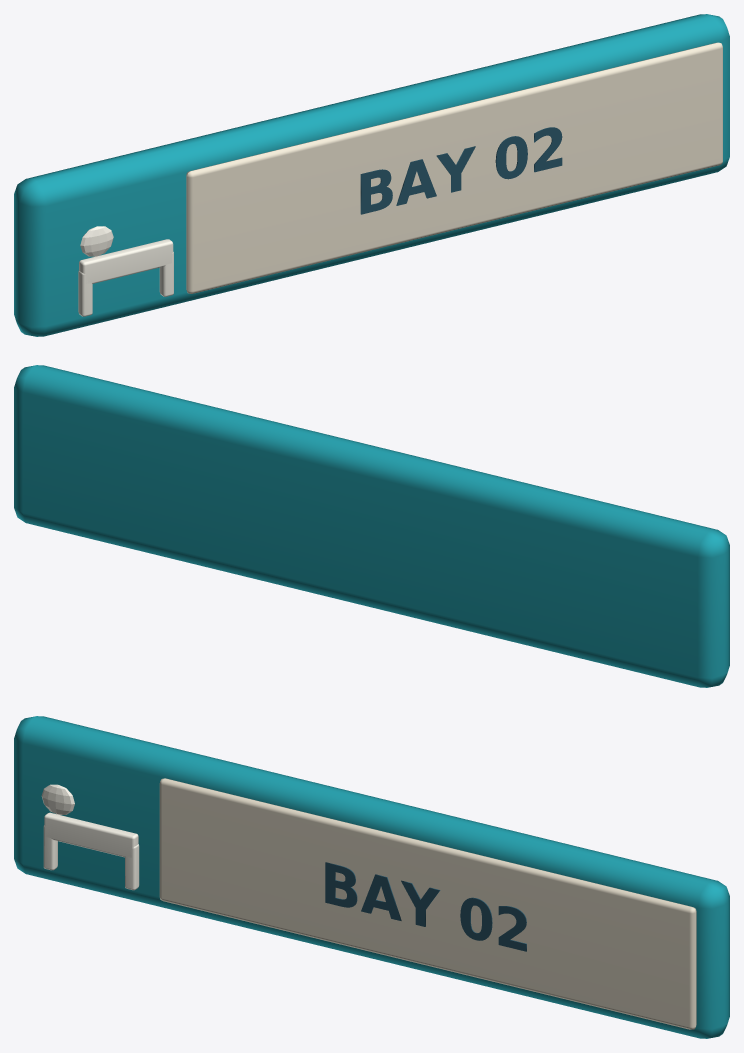
The model's file is Clinical_Sign_Bay02.glb.
3 views of the same model, one above another, from view 1: azimuth 30°, elevation 25°; view 2: azimuth 150°, elevation 25°; view 3: azimuth 330°, elevation 25° (orthographic).
Parts seen in each view (by area): view 1: Clinical_Sign_Bay02_cream, Clinical_Sign_Bay02_teal, Clinical_Sign_Bay02_navy, Clinical_Sign_Bay02_paper; view 2: Clinical_Sign_Bay02_teal; view 3: Clinical_Sign_Bay02_cream, Clinical_Sign_Bay02_teal, Clinical_Sign_Bay02_navy, Clinical_Sign_Bay02_paper.
Part boxes in pixels (box(x1,y1,x2,y2)): Clinical_Sign_Bay02_cream: box(186, 42, 722, 293); Clinical_Sign_Bay02_teal: box(14, 14, 729, 336); Clinical_Sign_Bay02_navy: box(360, 127, 562, 214); Clinical_Sign_Bay02_paper: box(78, 226, 173, 316); Clinical_Sign_Bay02_teal: box(14, 365, 729, 687); Clinical_Sign_Bay02_cream: box(159, 778, 696, 1029); Clinical_Sign_Bay02_teal: box(14, 716, 729, 1038); Clinical_Sign_Bay02_navy: box(325, 862, 526, 951); Clinical_Sign_Bay02_paper: box(41, 784, 139, 890).
Size of the model in its own units: 1.48 by 0.31 by 0.122.
